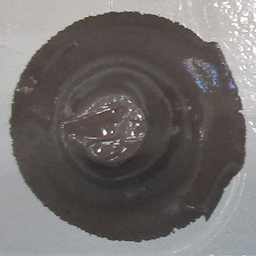perfect: (9, 8, 251, 243)
